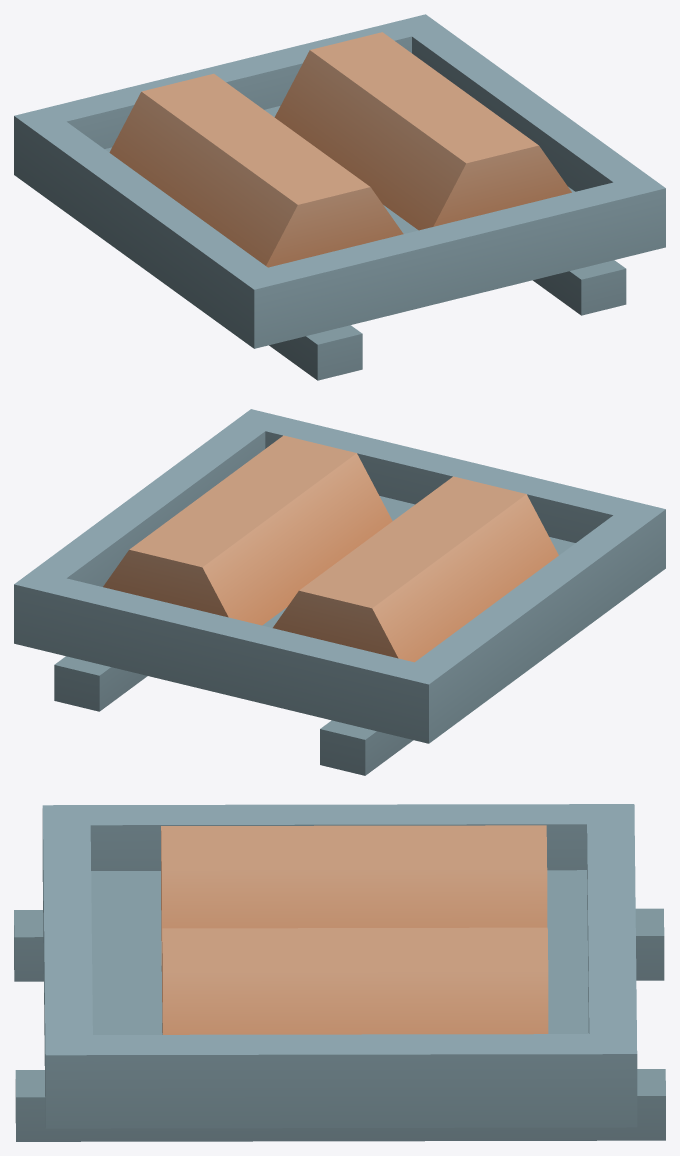
The model's file is chest of bronze.fbx.
3 views of the same model, one above another, from view 1: azimuth 30°, elevation 25°; view 2: azimuth 150°, elevation 25°; view 3: azimuth 270°, elevation 25° (orthographic). The views are drawn at different scales.
Parts seen in each view (by area): view 1: chest_of_bronze; view 2: chest_of_bronze; view 3: chest_of_bronze.
Part boxes in pixels (x1=…): chest_of_bronze: x1=14, y1=14, x2=665, y2=380; chest_of_bronze: x1=14, y1=409, x2=665, y2=775; chest_of_bronze: x1=14, y1=804, x2=665, y2=1141.
Size of the model in its own units: 201 by 56.82 by 220.
1 material, 1 textured.
